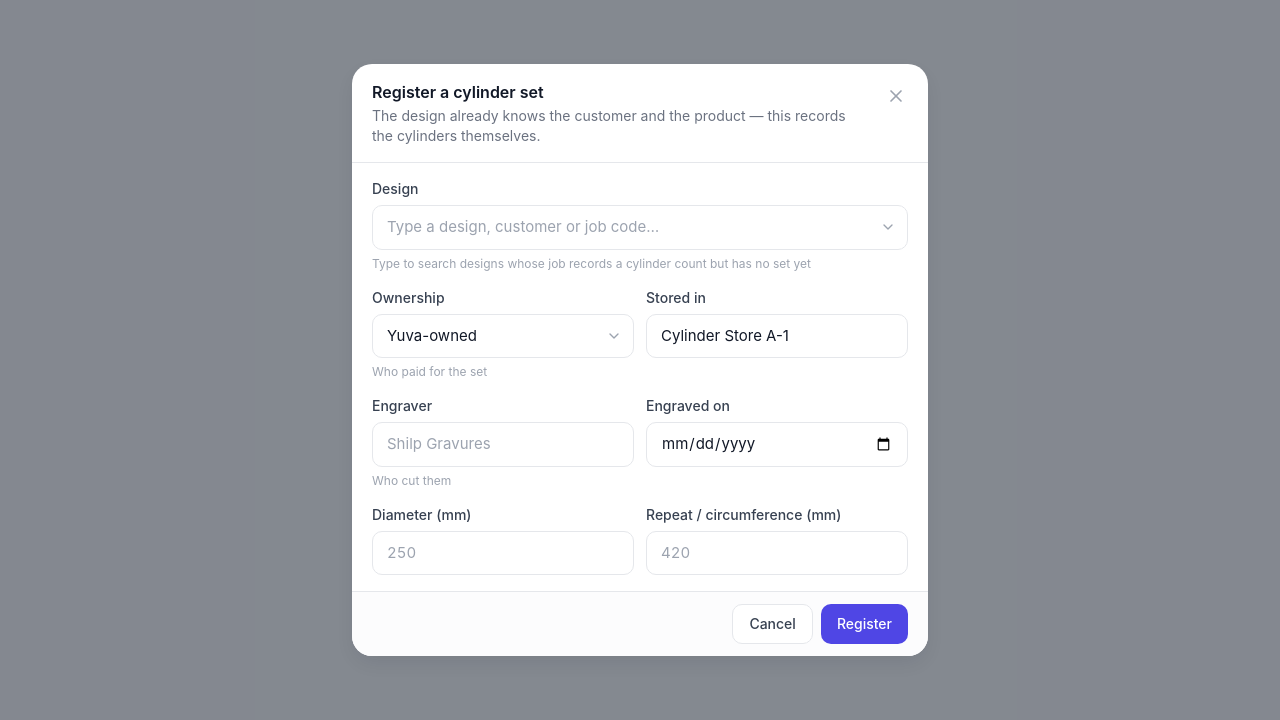
it: RegisterSetModal — choosing a design › tells two identically named designs apart on the second line
The image size is (1280, 720).
Focus the dropdown labelled "Design" at [640, 227], box [372,205,908,250]
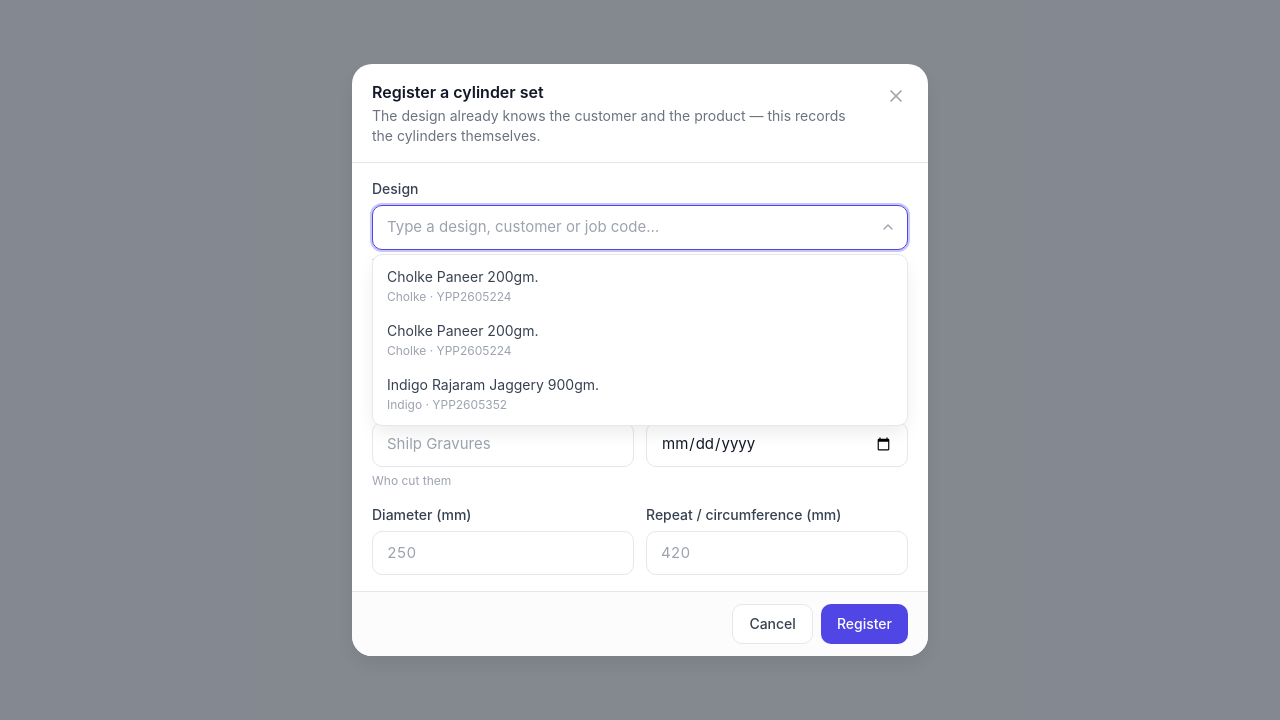
Expected: the 1st option "Cholke Paneer 200gm. Cholke · YPP2605224" is shown, [373,258,907,312]
